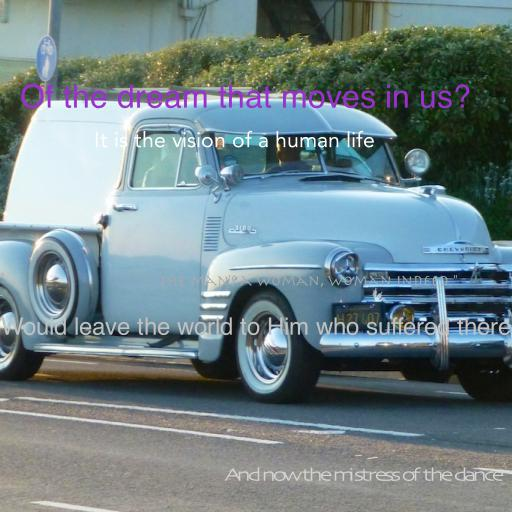Apple Chancery: (1, 317, 511, 336)
Avenir: (93, 130, 375, 148)
Herculanum: (158, 274, 458, 288)
SF Pro: (19, 84, 471, 109)
Skia: (225, 467, 501, 482)
